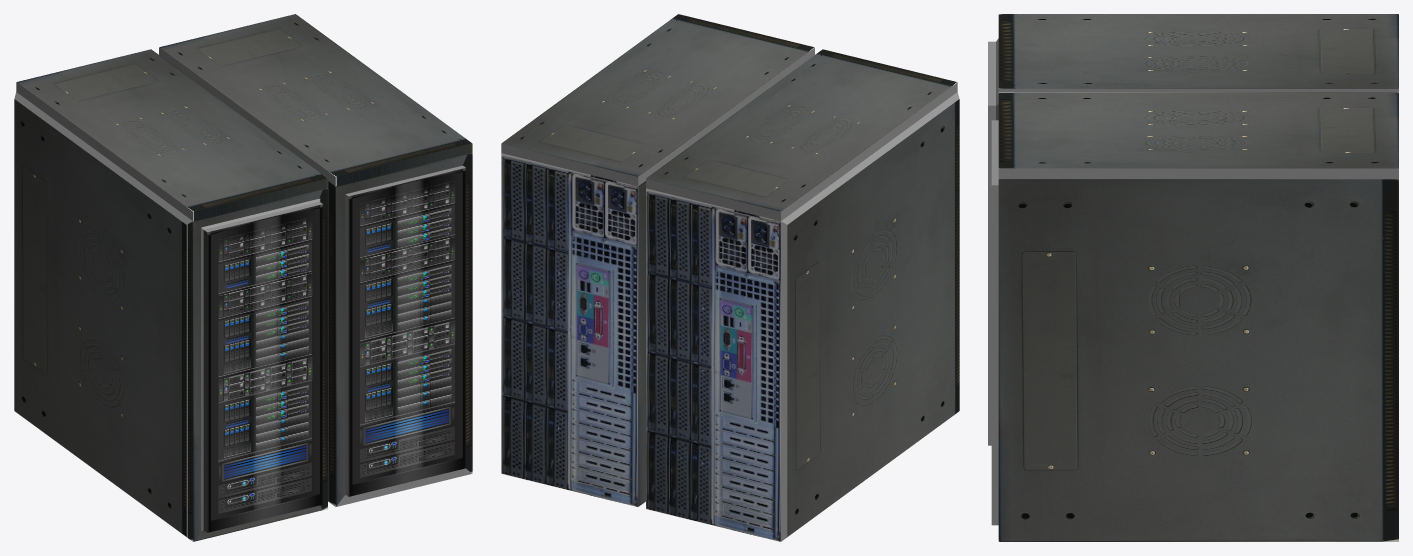
File: server05.glb
3 views of the same model, side by side, from view 1: azimuth 30°, elevation 25°; view 2: azimuth 150°, elevation 25°; view 3: azimuth 270°, elevation 25° (orthographic). The views are drawn at different scales.
Bounding box in the file's own units: 185 × 206 × 205.
Materials: 4 (3 with a texture image).
